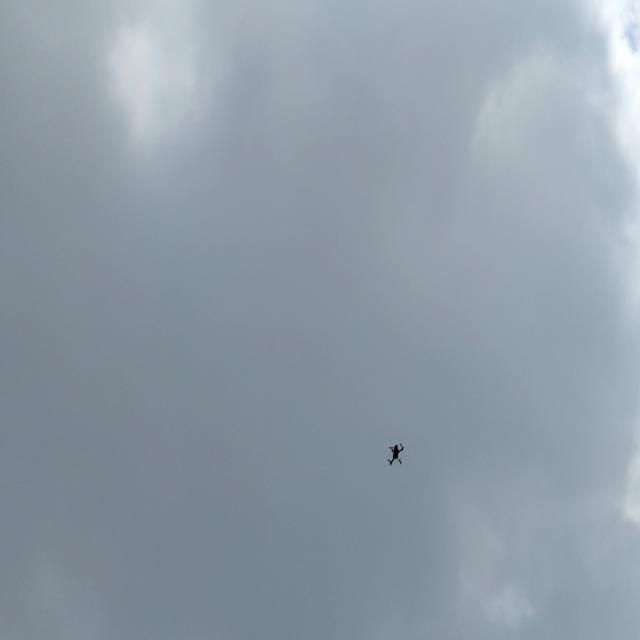drone: (378, 431, 409, 472)
